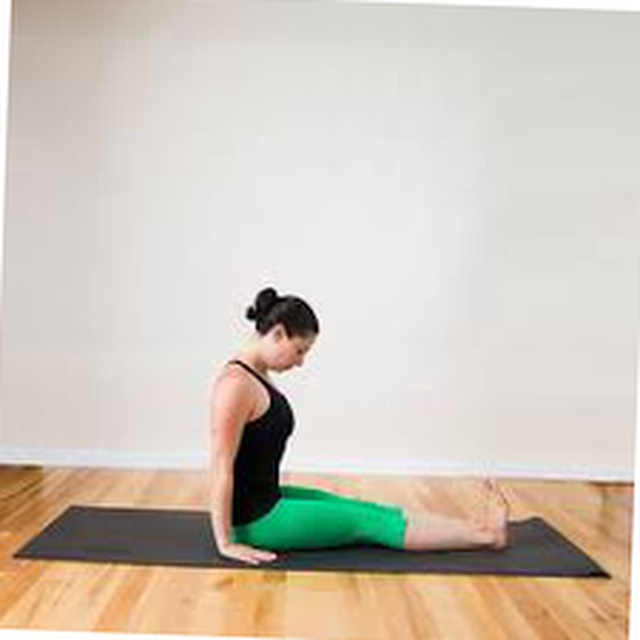Staff_Pose: (207, 283, 511, 566)
